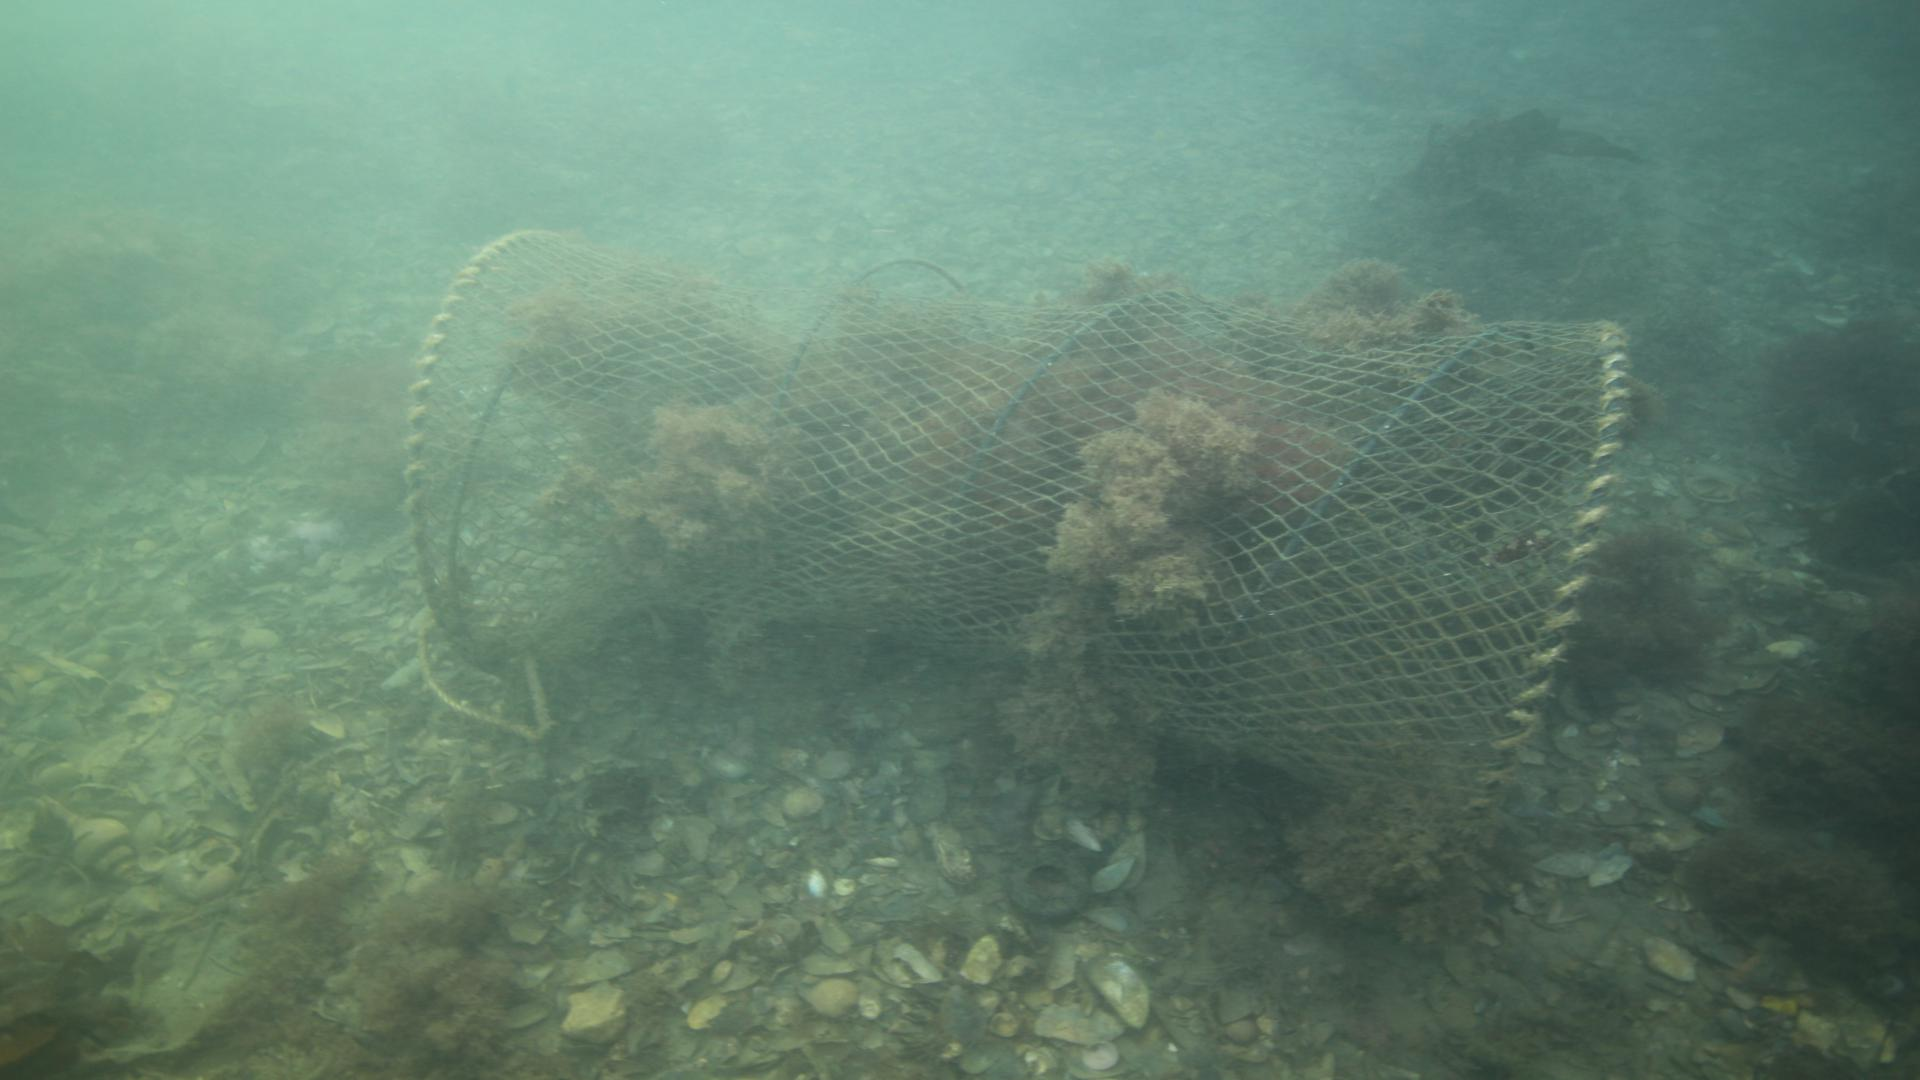spring fish trap: (400, 228, 1627, 837)
